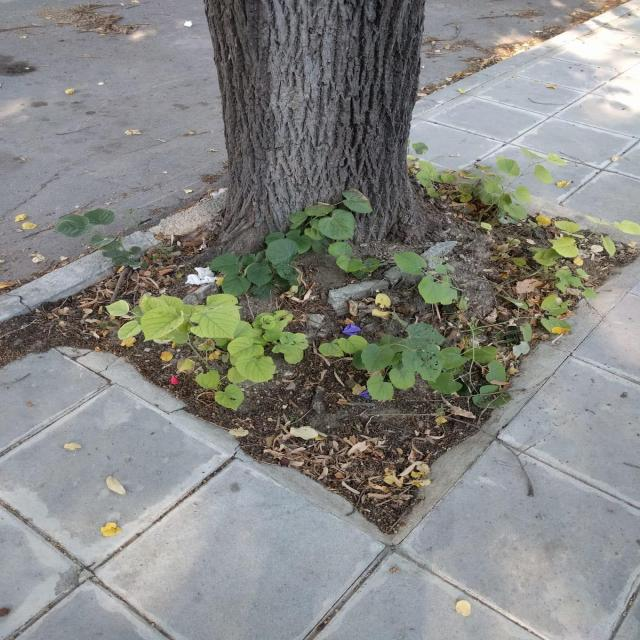litter: (181, 263, 222, 287)
